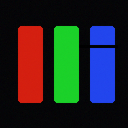3 line_h: (79, 45, 117, 47)
